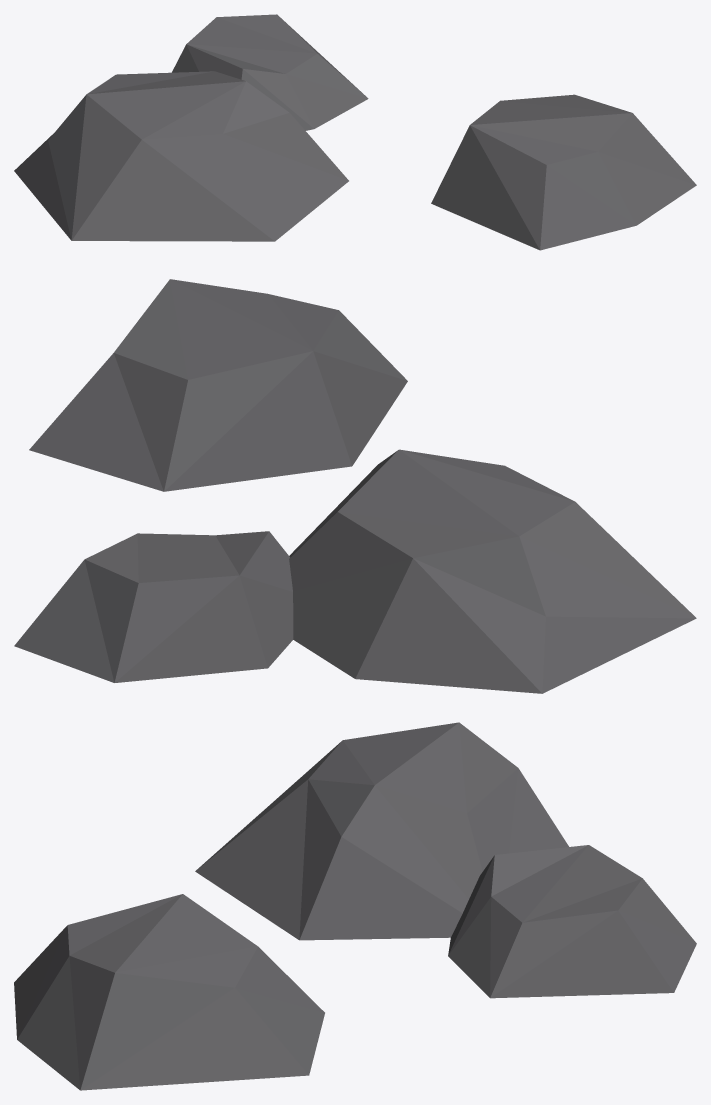
Rendered from SM_Env_Rocks_03.glb.
3 renders of one model, top to bottom at view 1: azimuth 30°, elevation 25°; view 2: azimuth 150°, elevation 25°; view 3: azimuth 270°, elevation 25°, orthographic. The views are drawn at different scales.
Parts seen in each view (by area): view 1: SM_Env_Rocks_03_part00; view 2: SM_Env_Rocks_03_part00; view 3: SM_Env_Rocks_03_part00.
Part boxes in pixels (left/top/right/bottom): SM_Env_Rocks_03_part00: left=14, top=14, right=696, bottom=250; SM_Env_Rocks_03_part00: left=14, top=279, right=696, bottom=693; SM_Env_Rocks_03_part00: left=14, top=722, right=696, bottom=1090.
Size of the model in its own units: 1 by 0.1719 by 0.94.
Materials: 1 (1 with a texture image).
